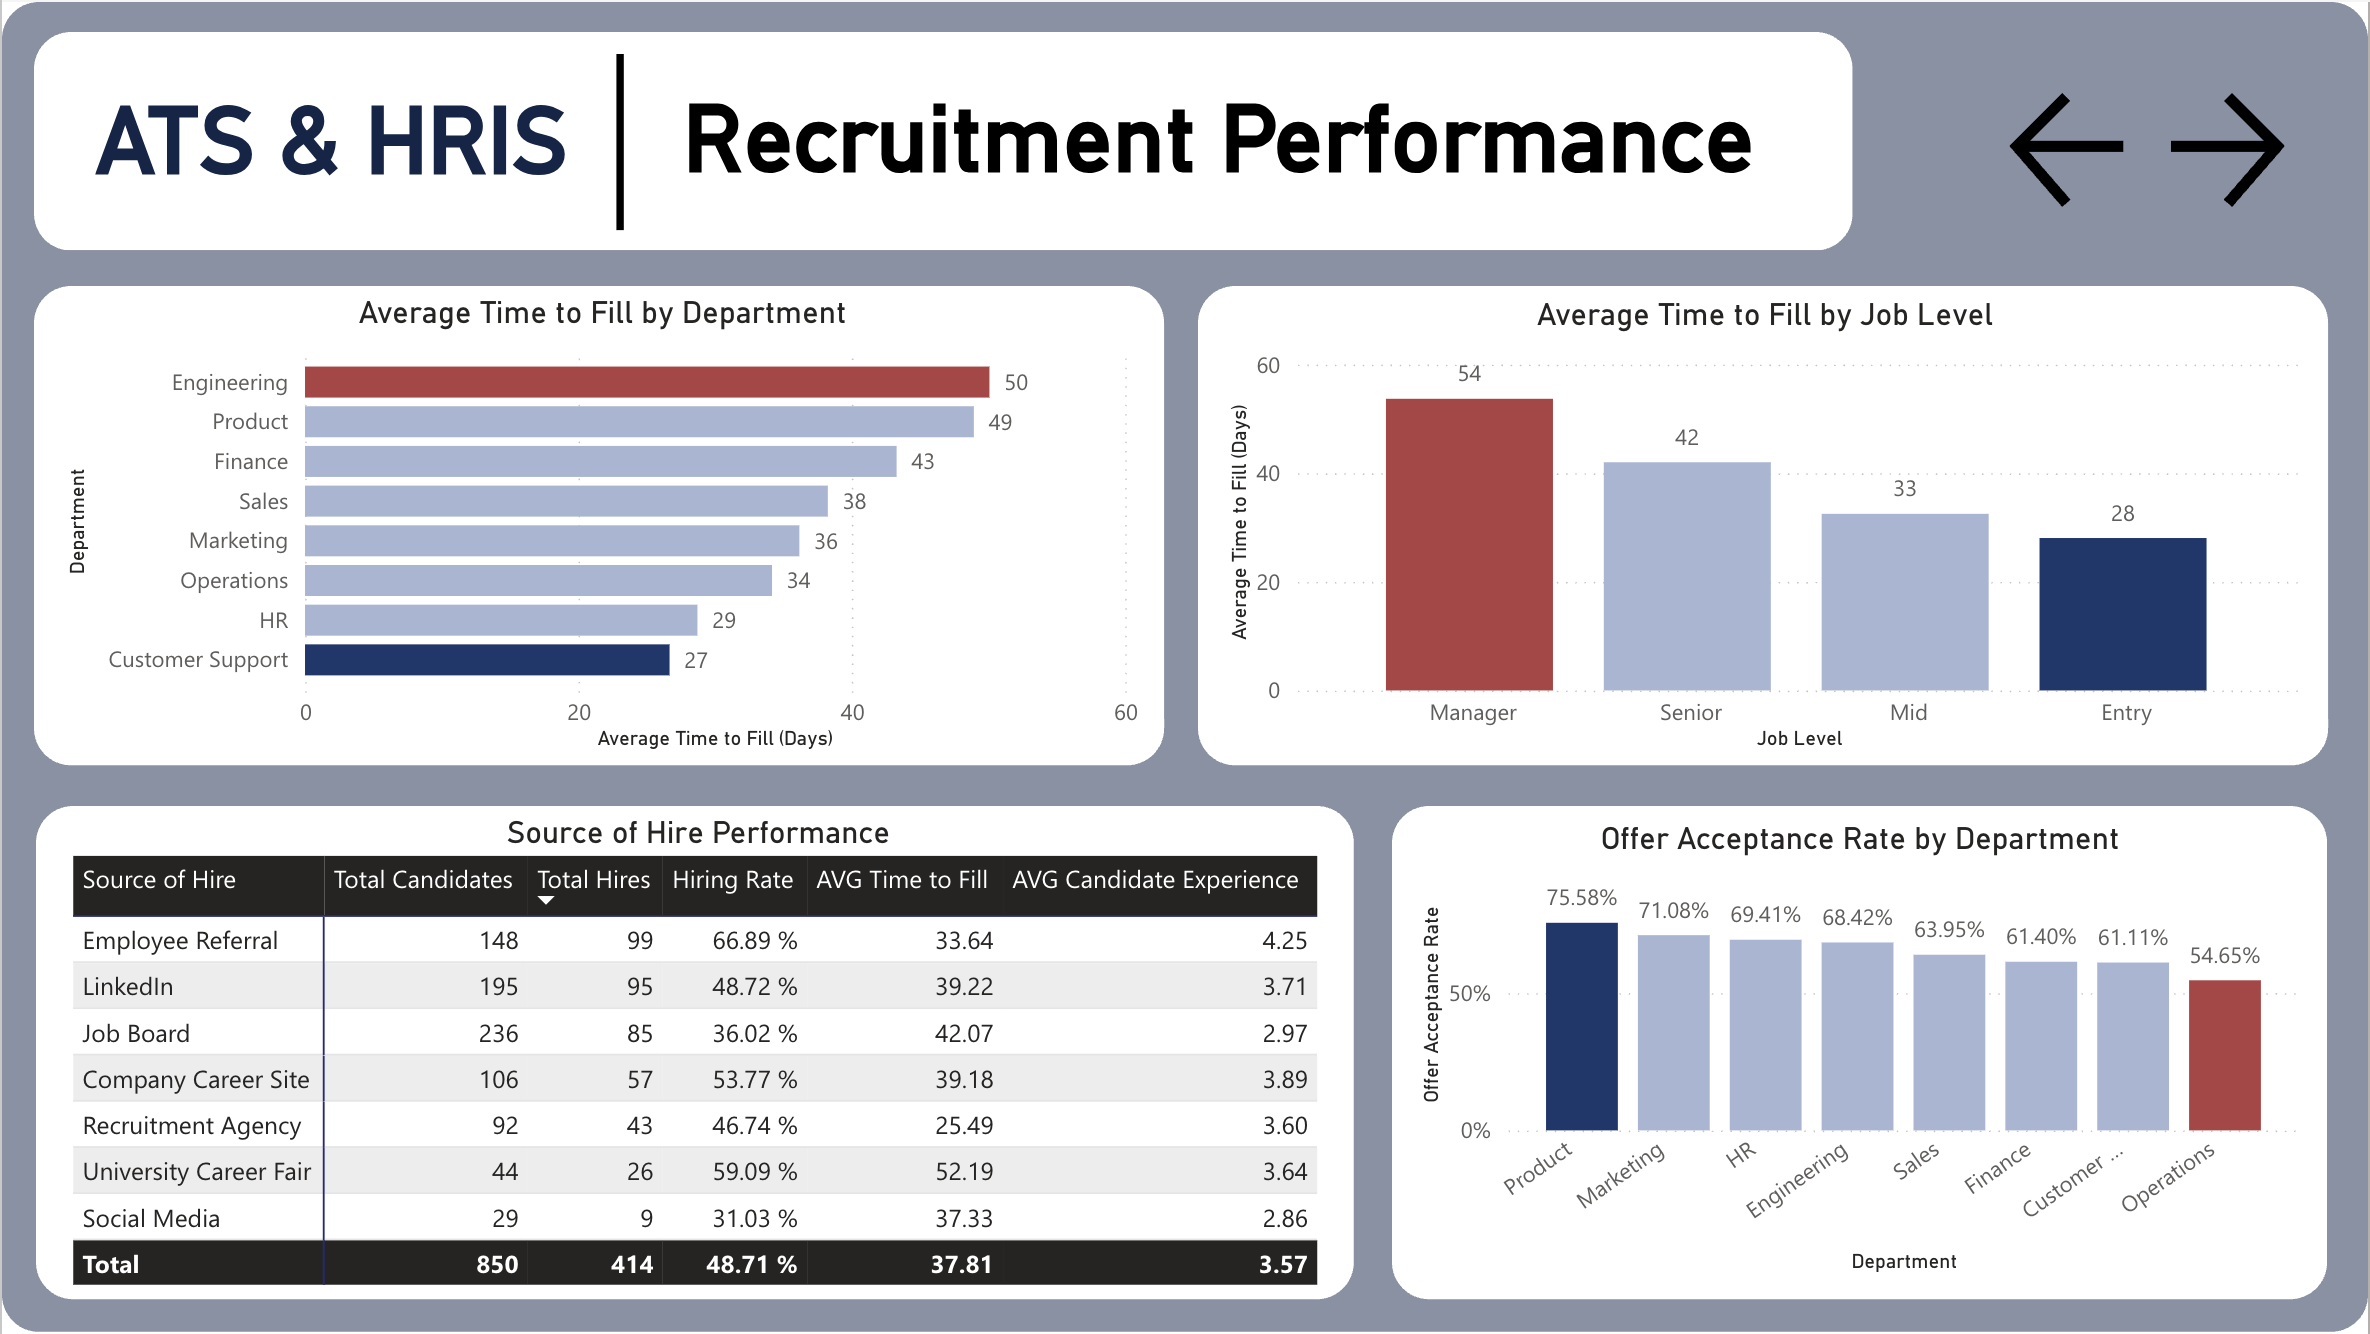

This screenshot's page, from the dashboard's own definition file:
{"tool":"powerbi","page":{"name":"Recruitment Performance","canvas":[1280,720],"ordinal":1},"visuals":[{"type":"shape","box":[0,0,1280,719.4],"z":0},{"type":"shape","box":[17.8,16.5,983.8,118.2],"z":1000},{"type":"shape","box":[17.8,153.8,611.4,259.3],"z":2000},{"type":"textbox","box":[45.8,47,279.6,77.5],"z":3000},{"type":"shape","box":[287.3,28,95.3,95.3],"z":4000},{"type":"textbox","box":[363.5,45.8,613.9,77.5],"z":5000},{"type":"actionButton","box":[1165.6,36.9,73.7,86.4],"z":6000},{"type":"actionButton","box":[1081.7,36.9,73.7,86.4],"z":7000},{"type":"barChart","title":"Average Time to Fill by Department","fields":{"Category":["ats_recruitment_data.department"],"Y":["ats_recruitment_data.avg_time_to_fill"]},"box":[30.6,159.8,589.3,248.8],"z":8000},{"type":"shape","box":[647,153.8,611.4,259.3],"z":9000},{"type":"columnChart","title":"Average Time to Fill by Job Level","fields":{"Category":["ats_recruitment_data.job_level"],"Y":["ats_recruitment_data.avg_time_to_fill"]},"box":[658.4,161.4,589.8,247.9],"z":10000},{"type":"shape","box":[18.1,435,713,266.8],"z":11000},{"type":"shape","box":[751.9,435,505.9,266.8],"z":12000},{"type":"pivotTable","title":"Source of Hire Performance","fields":{"Rows":["ats_recruitment_data.source_of_hire"],"Values":["ats_recruitment_data.total_candidates","ats_recruitment_data.total_hires","ats_recruitment_data.hiring_rate","ats_recruitment_data.avg_time_to_fill","ats_recruitment_data.avg_candidate_experience"]},"box":[33.4,442,686.6,273.8],"z":13000},{"type":"columnChart","title":"Offer Acceptance Rate by Department","fields":{"Category":["ats_recruitment_data.department"],"Y":["ats_recruitment_data.offer_acceptance_rate"]},"box":[763,444.7,485,247.4],"z":14000}]}

Visuals, with their boxes in screenshot pixels (x1, y1, x2, y2), scaled from the page's 1280x720 canvas onto the 2370x1334 screenshot:
shape: BBox(0, 0, 2369, 1333)
shape: BBox(33, 31, 1855, 250)
shape: BBox(33, 285, 1165, 765)
textbox: BBox(85, 87, 602, 231)
shape: BBox(532, 52, 708, 228)
textbox: BBox(673, 85, 1810, 228)
actionButton: BBox(2158, 68, 2295, 228)
actionButton: BBox(2003, 68, 2139, 228)
"Average Time to Fill by Department" barChart: BBox(57, 296, 1148, 757)
shape: BBox(1198, 285, 2330, 765)
"Average Time to Fill by Job Level" columnChart: BBox(1219, 299, 2311, 758)
shape: BBox(34, 806, 1354, 1300)
shape: BBox(1392, 806, 2329, 1300)
"Source of Hire Performance" pivotTable: BBox(62, 819, 1333, 1326)
"Offer Acceptance Rate by Department" columnChart: BBox(1413, 824, 2311, 1282)
